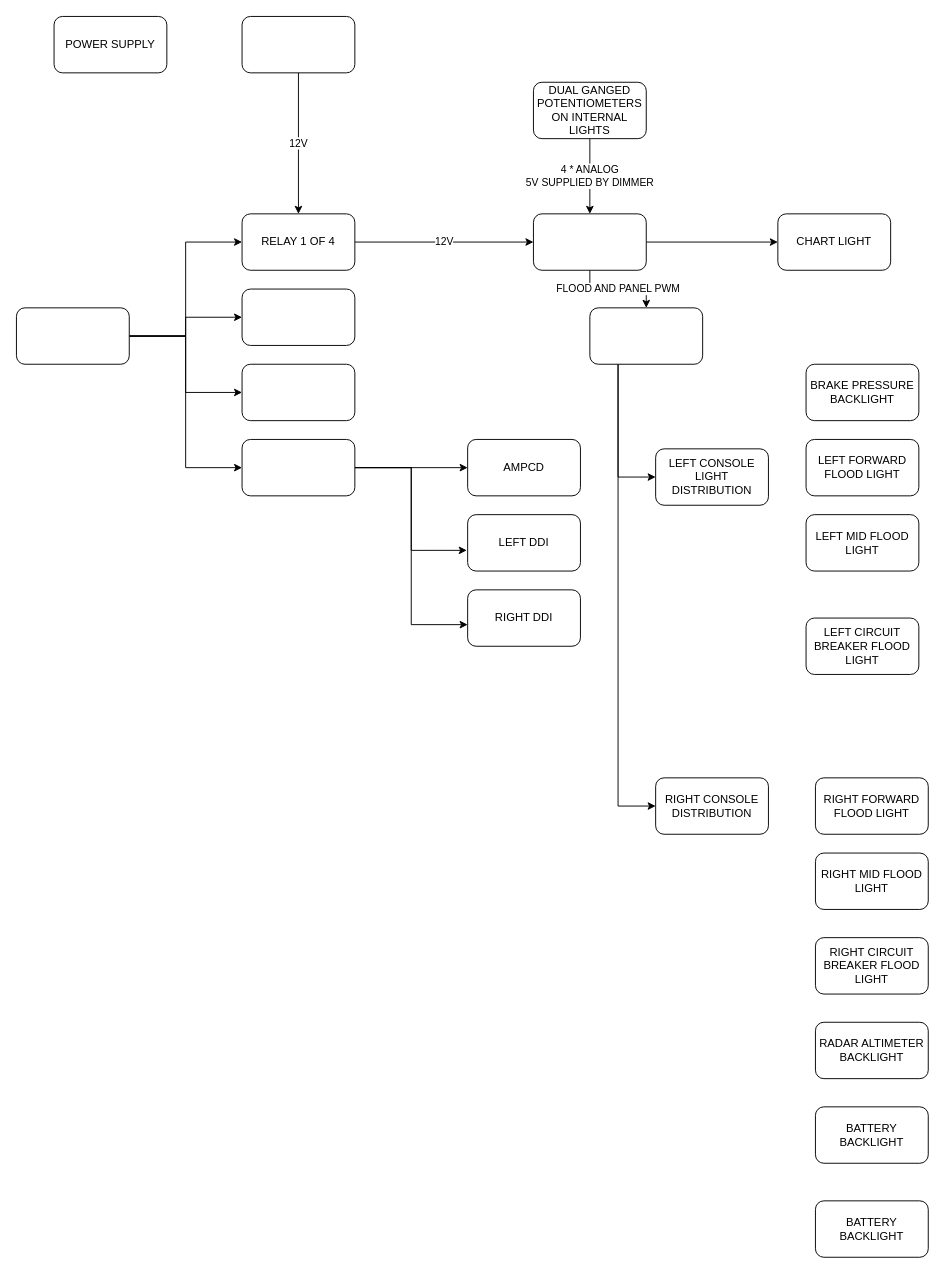
The diagram is 945 pixels wide and 1274 high, and some of its shapes have lost their labels. Here are the shapes that lost their labels. From the top down, the centre of each, then its label:
At pixel 298 44: "UIP POWER DISTRIBUTION".
At pixel 589 241: "ANALOG PWM DIMMER".
At pixel 72 335: "MAX7219 MEGA IN UIP".
At pixel 646 335: "UIP LIGHT DISTRIBUTION".
At pixel 298 467: "RELAY 4 OF 4".
